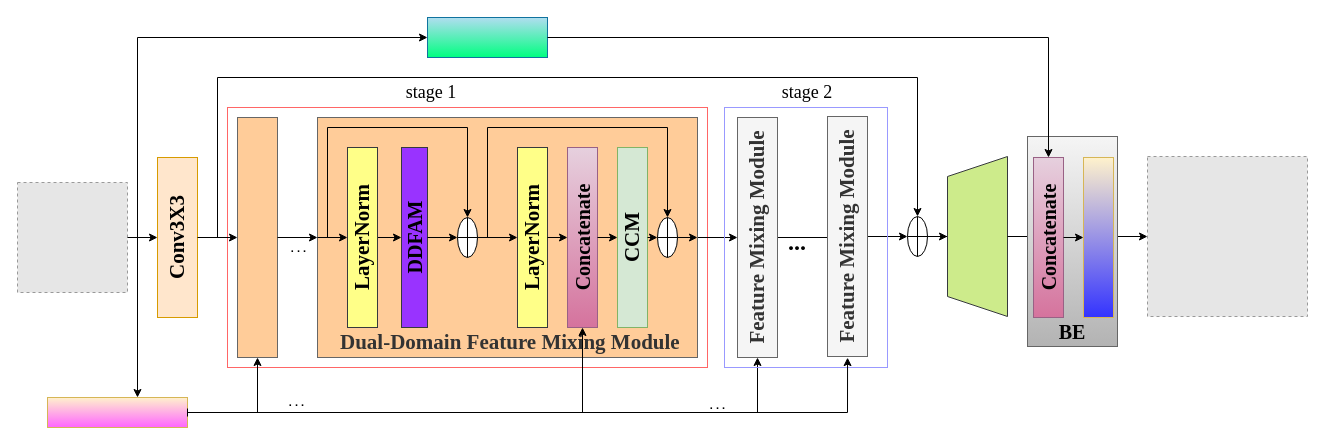
This 1325x445 diagram has some shape labels left out. Grey dashed boxes stand in for pictures. The shapes that lost their labels are listed below. From the top down, each one's centre as x and y in pixels, then its label:
point (487, 37): Bicubic
point (257, 237): DDFMM
point (977, 236): Upsampler
point (1098, 237): CPRC
point (117, 412): Trainable Sobel
